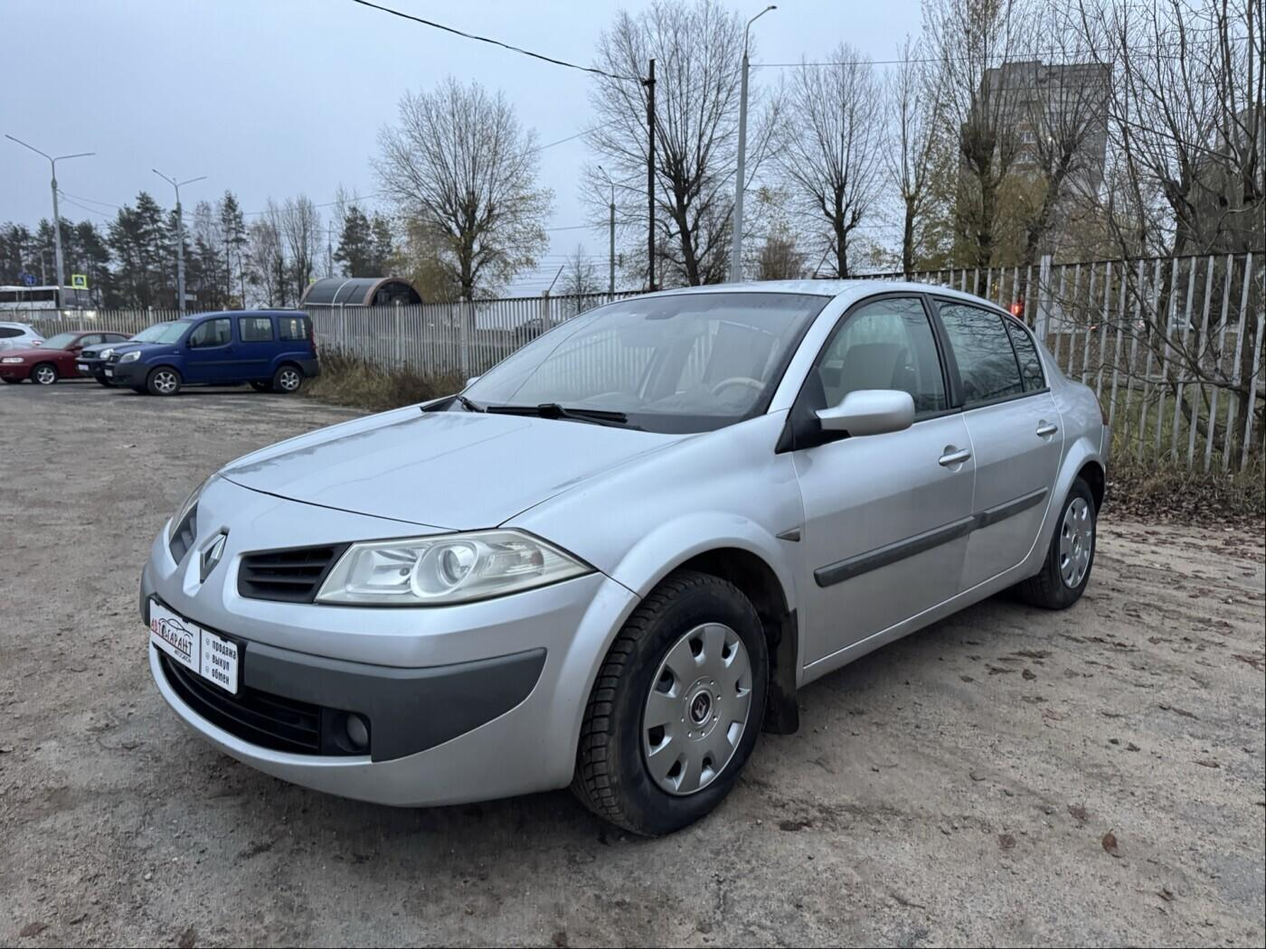Megane_2005-2009: (129, 278, 1123, 847)
